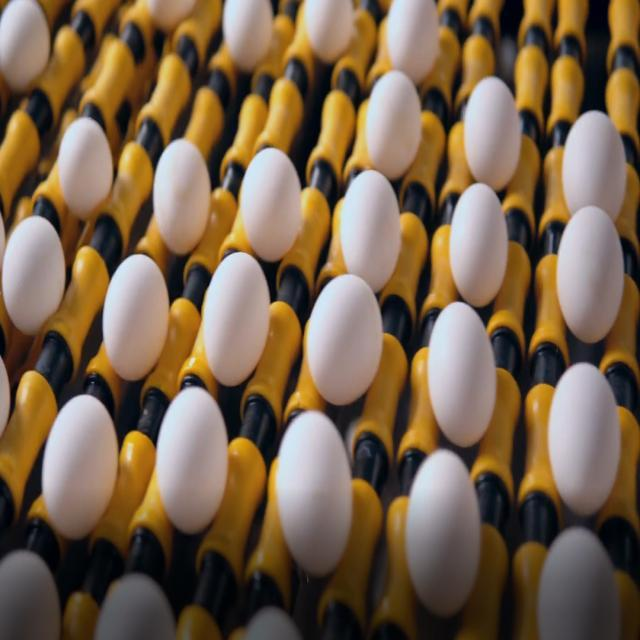Egg: (398, 446, 482, 624), (38, 393, 129, 553), (273, 407, 355, 573), (307, 272, 393, 422), (150, 388, 231, 542), (426, 298, 504, 456), (546, 358, 622, 514), (104, 244, 174, 393), (536, 527, 626, 640), (558, 196, 624, 349), (200, 240, 265, 395), (340, 162, 406, 299), (452, 180, 512, 326), (3, 212, 72, 338), (240, 143, 306, 270), (561, 102, 627, 226), (152, 132, 216, 258), (463, 67, 524, 194), (365, 72, 422, 182), (56, 115, 116, 214), (382, 0, 446, 91), (0, 0, 57, 100), (220, 0, 282, 78), (296, 0, 362, 67)
